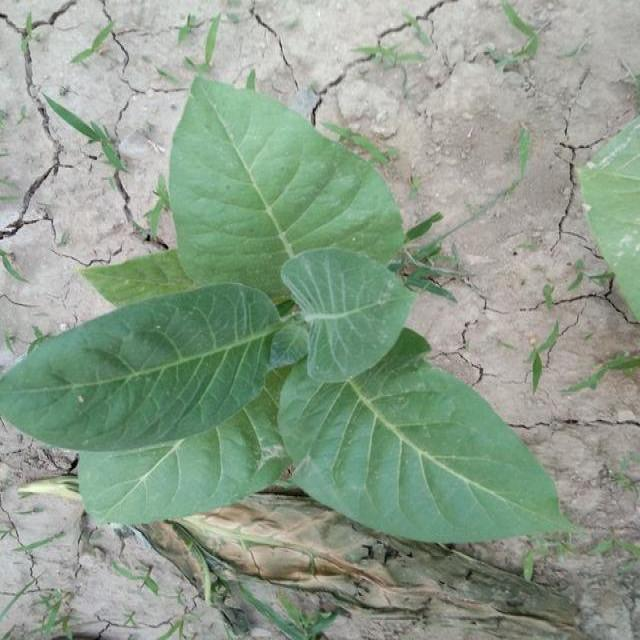crop: (5, 74, 580, 562)
